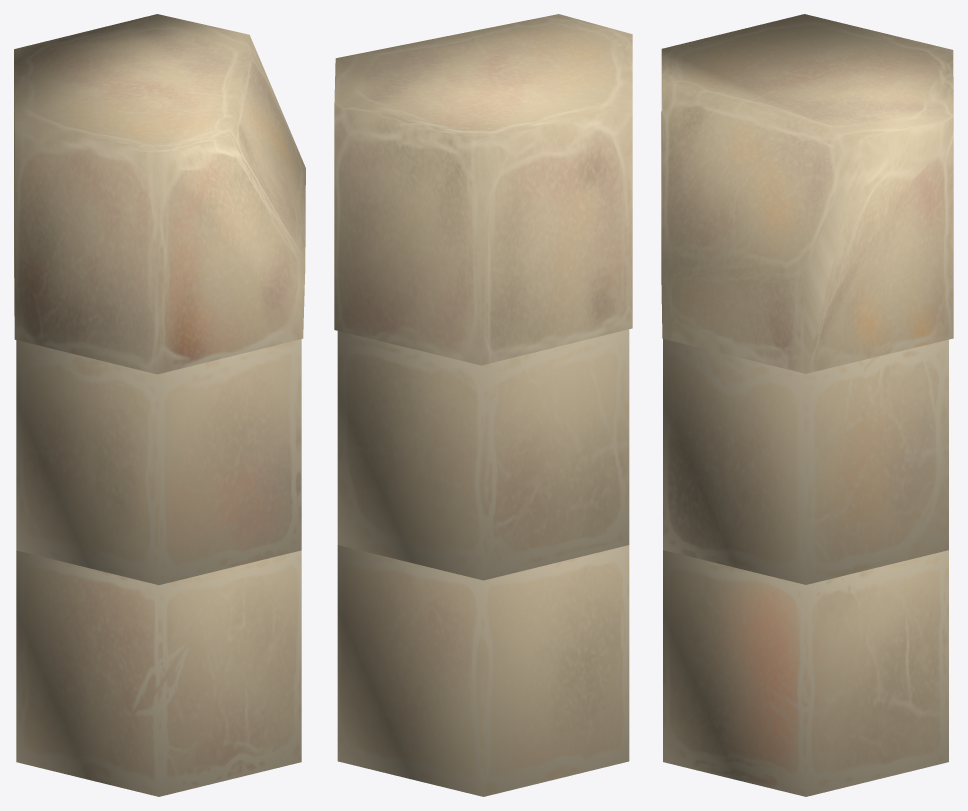
File: exteriorpilar2.fbx
3 views of the same model, side by side, from view 1: azimuth 30°, elevation 25°; view 2: azimuth 150°, elevation 25°; view 3: azimuth 270°, elevation 25° (orthographic). The views are drawn at different scales.
Parts seen in each view (by area): view 1: exteriorpillar2; view 2: exteriorpillar2; view 3: exteriorpillar2.
Boxes of the visible parts, x1,y1,x2,y2 form: exteriorpillar2: [14, 14, 305, 796]; exteriorpillar2: [334, 14, 632, 796]; exteriorpillar2: [661, 14, 953, 796].
Size of the model in its own units: 1.33 by 2.81 by 1.15.
